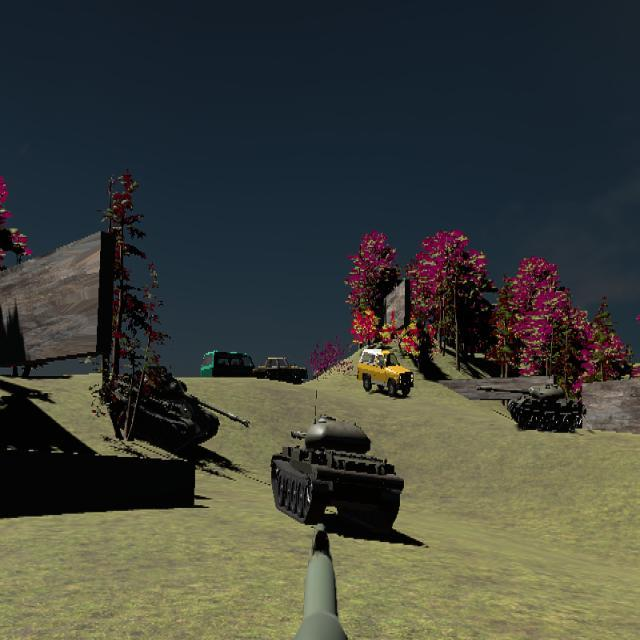Tank: (270, 414, 404, 529), (110, 362, 251, 452), (476, 383, 584, 432)
car: (357, 348, 415, 398), (200, 350, 254, 387), (254, 355, 308, 387)
